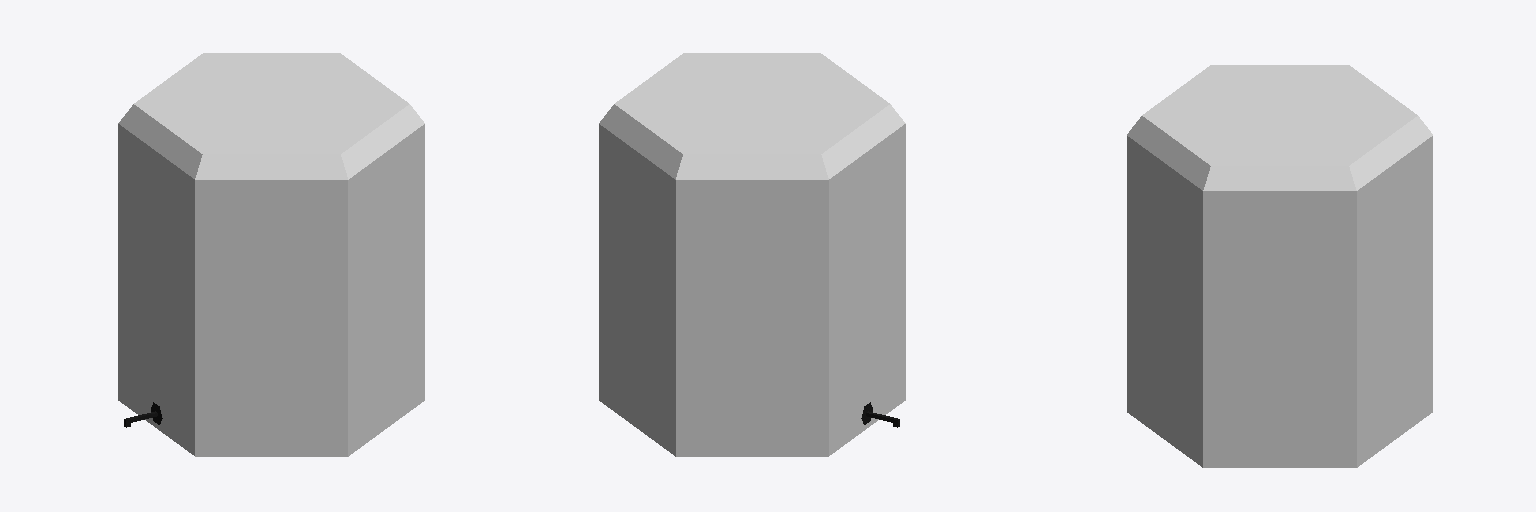
Rendered from DistilledWaterContainer.obj.
3 views of the same model, side by side, from view 1: azimuth 30°, elevation 25°; view 2: azimuth 150°, elevation 25°; view 3: azimuth 270°, elevation 25° (orthographic).
Visible parts, largest first — view 1: Mesh1 Component_1_1 Model; view 2: Mesh1 Component_1_1 Model; view 3: Mesh1 Component_1_1 Model.
Part boxes in pixels (bbox=[...]): Mesh1 Component_1_1 Model: bbox=[118, 53, 424, 456]; Mesh1 Component_1_1 Model: bbox=[599, 53, 905, 456]; Mesh1 Component_1_1 Model: bbox=[1127, 65, 1432, 467].
Bounding box in the file's own units: 0.7482 × 0.81 × 0.76.